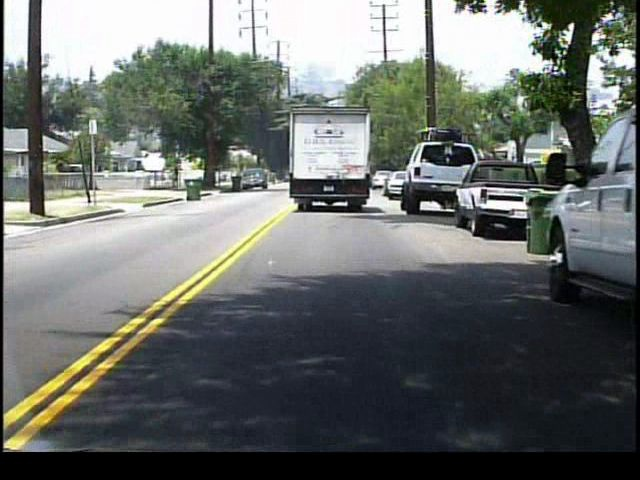person: (173, 165, 183, 191)
